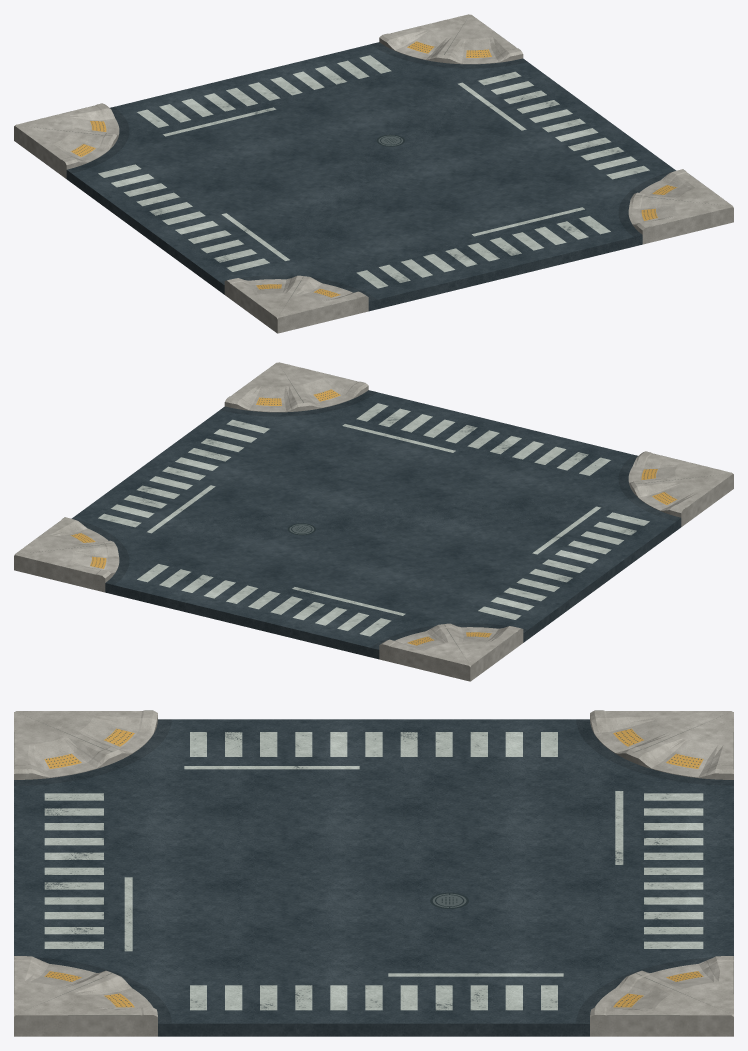
The model's file is RoadCross.glb.
The picture shows the model from 3 angles, top to bottom: view 1: azimuth 30°, elevation 25°; view 2: azimuth 150°, elevation 25°; view 3: azimuth 270°, elevation 25°; orthographic projection. The views are drawn at different scales.
Parts seen in each view (by area): view 1: SM_RoadCross-col, SM_RoadCross_Details; view 2: SM_RoadCross-col, SM_RoadCross_Details; view 3: SM_RoadCross-col, SM_RoadCross_Details.
Boxes of the visible parts, bbox=[...] form: SM_RoadCross-col: bbox=[14, 14, 733, 333]; SM_RoadCross_Details: bbox=[34, 23, 717, 305]; SM_RoadCross-col: bbox=[14, 362, 733, 681]; SM_RoadCross_Details: bbox=[30, 371, 713, 653]; SM_RoadCross-col: bbox=[14, 710, 733, 1036]; SM_RoadCross_Details: bbox=[14, 710, 733, 1023].
Bounding box in the file's own units: 12 × 0.4025 × 12.
Materials: 8 (4 with a texture image).
